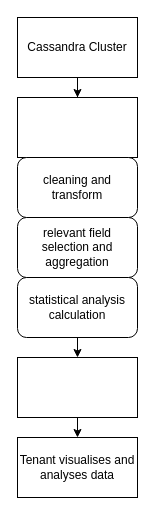
Some shapes in this 155 by 515 pixel diagram are drawn without their labels. Here are the shapes that lost their labels. From the top down, the centre of each, then its label:
(x=77, y=127): Spark job to collect data
(x=77, y=387): Data sent to DAAS
